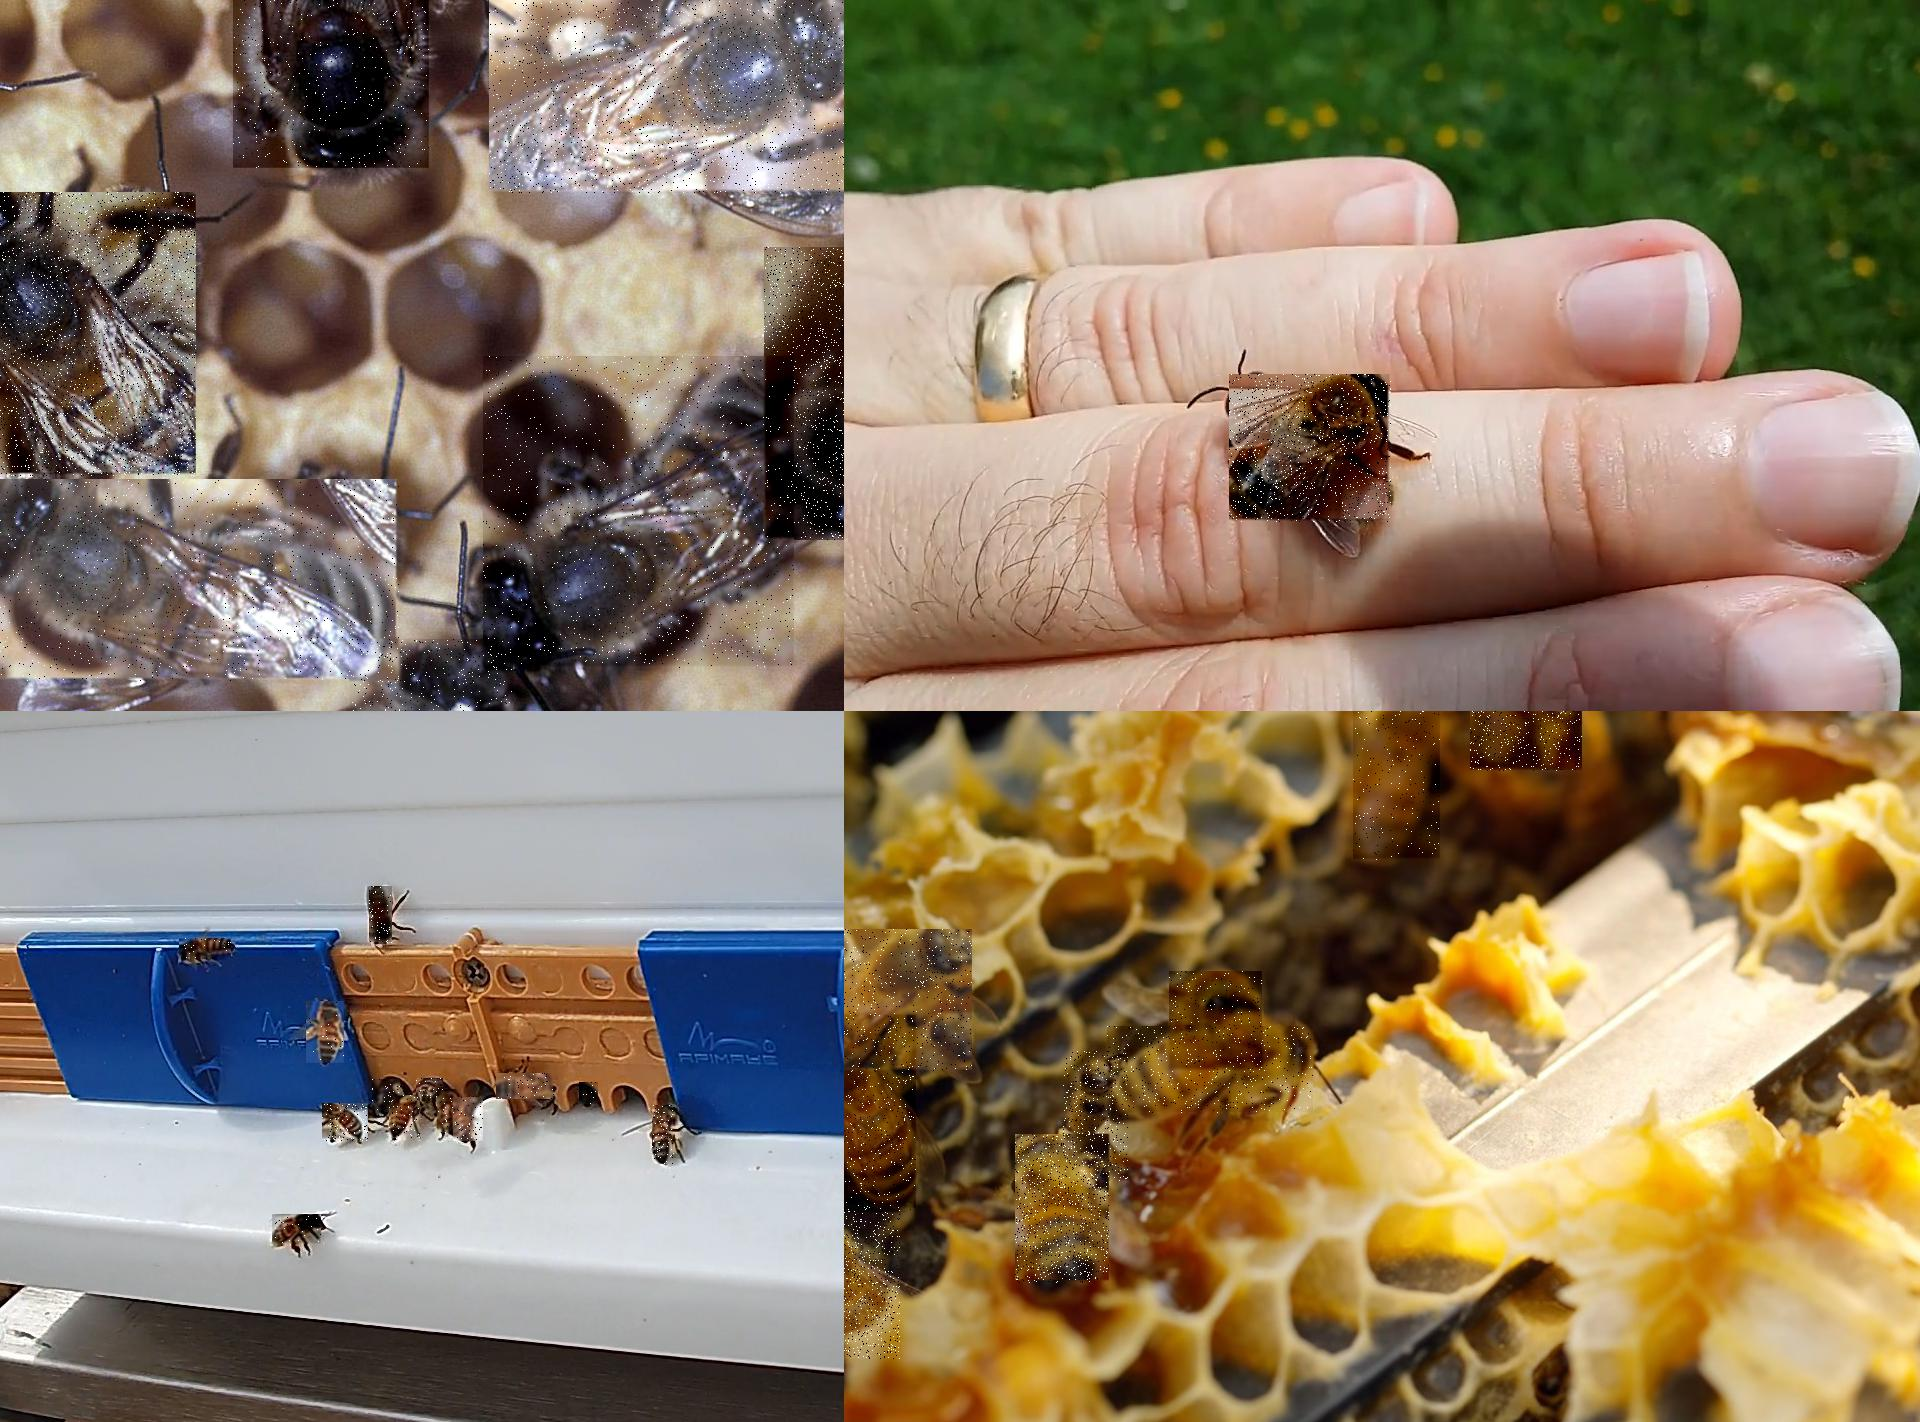bee: (483, 357, 795, 670), (0, 479, 401, 684), (489, 0, 843, 195), (0, 192, 198, 478), (764, 247, 843, 541), (844, 929, 974, 1073), (1107, 1027, 1314, 1115), (844, 1016, 918, 1212), (1015, 1135, 1110, 1285), (1353, 711, 1442, 862), (350, 639, 515, 710), (1169, 972, 1263, 1072), (844, 1205, 902, 1361), (1063, 1051, 1129, 1182), (1470, 711, 1584, 773), (272, 1215, 322, 1247), (497, 1073, 556, 1100), (389, 1096, 421, 1141), (453, 1097, 484, 1142), (369, 887, 393, 945), (653, 1105, 676, 1165), (179, 939, 232, 960), (437, 1089, 458, 1134), (416, 1079, 444, 1102), (579, 1083, 599, 1107)
drone: (1230, 375, 1393, 524)
pollenbee: (306, 1001, 345, 1064), (322, 1104, 369, 1143), (372, 1080, 401, 1113)
queen: (233, 0, 431, 170)
